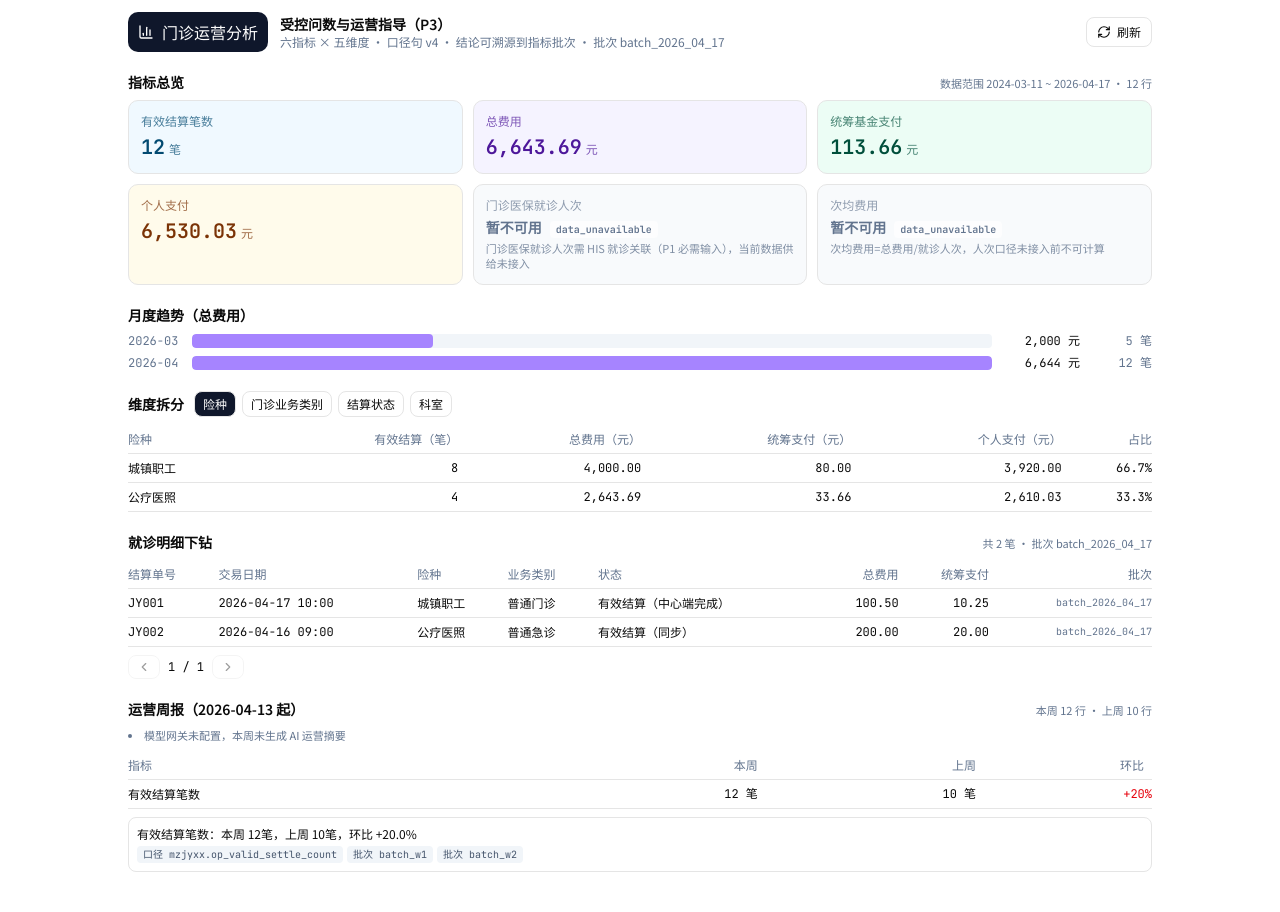
OpsAnalyticsPage › 险种拆分展示中文标签与占比，科室维度切到 unavailable 提示
This screenshot has width=1280, height=912.
Expected: the element with test id "ops-analytics-breakdown" shows "城镇职工", [128,458,176,476]
Expected: the element with test id "ops-analytics-breakdown" shows "公疗医照", [128,488,176,504]
Click the button "科室". click: (431,404)
box: [410,390,452,416]
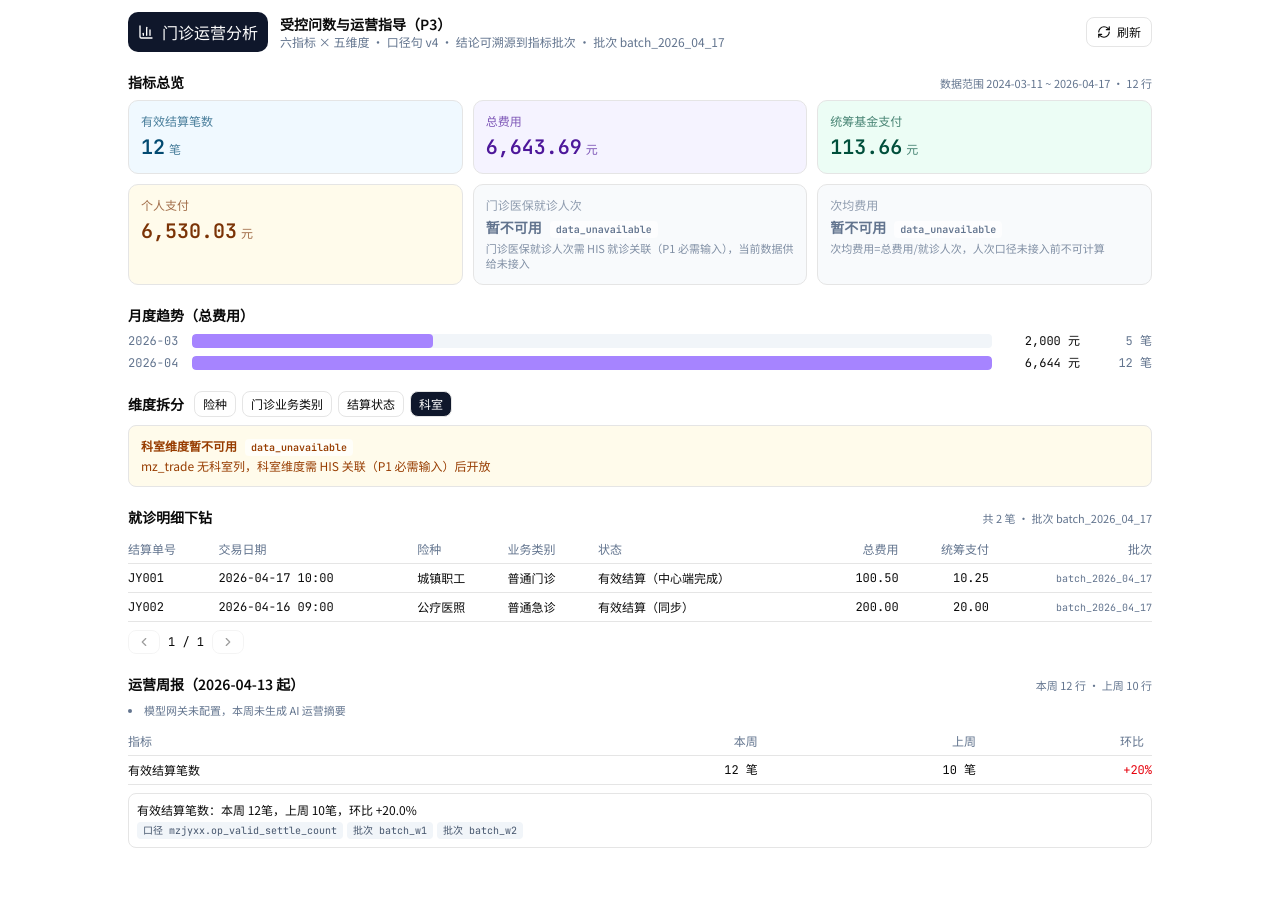
Result: the element with test id "ops-breakdown-unavailable" is shown at [128,424,1152,487]
Result: the element with test id "ops-breakdown-unavailable" shows "无科室列" at [141,457,491,474]
